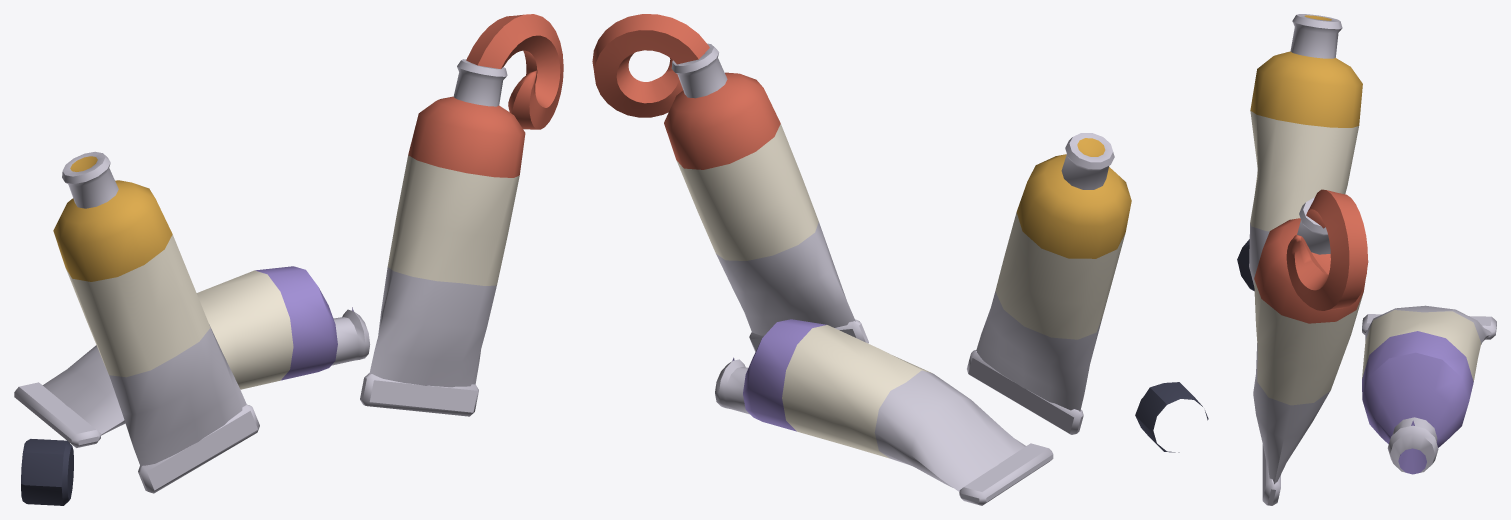
Rendered from lm_paint_tubes.glb.
3 views of the same model, side by side, from view 1: azimuth 30°, elevation 25°; view 2: azimuth 150°, elevation 25°; view 3: azimuth 270°, elevation 25° (orthographic). The views are drawn at different scales.
Parts seen in each view (by area): view 1: LandmarkPaintTubesMesh; view 2: LandmarkPaintTubesMesh; view 3: LandmarkPaintTubesMesh.
Boxes of the visible parts, x1,y1,x2,y2 form: LandmarkPaintTubesMesh: [14, 14, 563, 505]; LandmarkPaintTubesMesh: [592, 14, 1208, 505]; LandmarkPaintTubesMesh: [1237, 14, 1496, 505].
Size of the model in its own units: 39.1 by 22.72 by 15.31.
